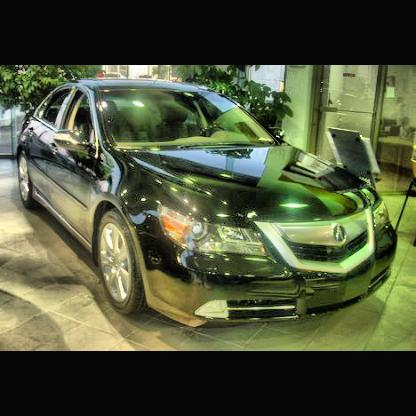Acura RL Sedan 2012: (19, 79, 400, 331)
